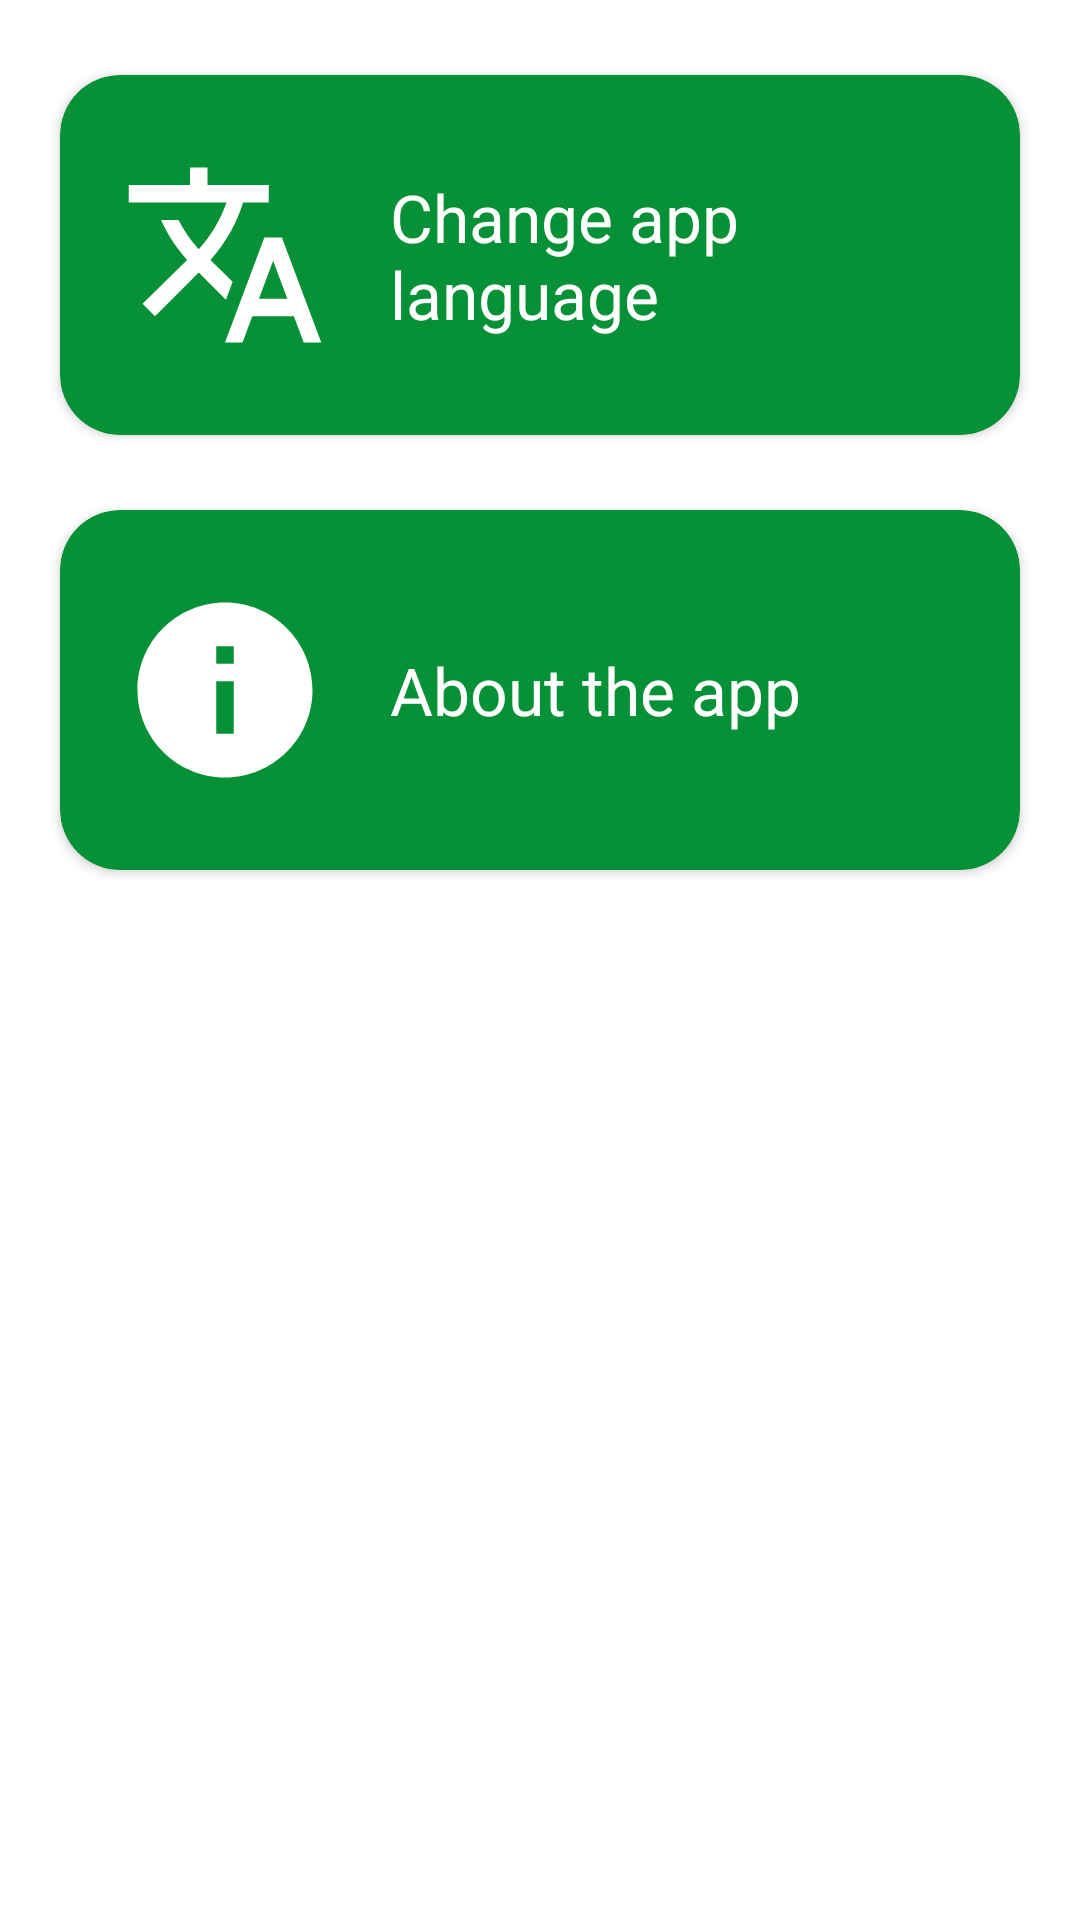

Locate icon controls on the screen. Image size 1080×1920, boxes as (x1, y1, x2, y2).
info: (137, 602, 313, 778)
translate: (128, 167, 321, 343)
